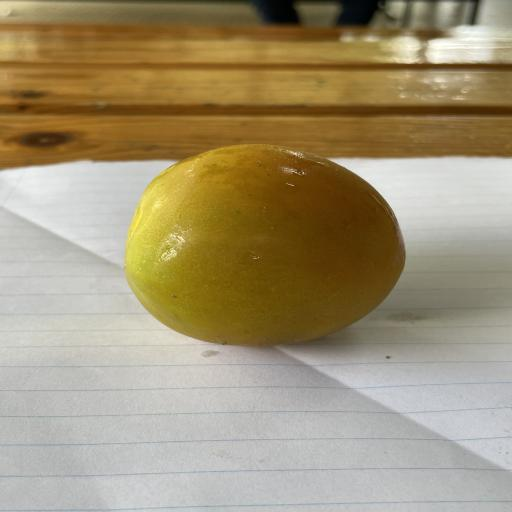unripe: (125, 144, 405, 346)
